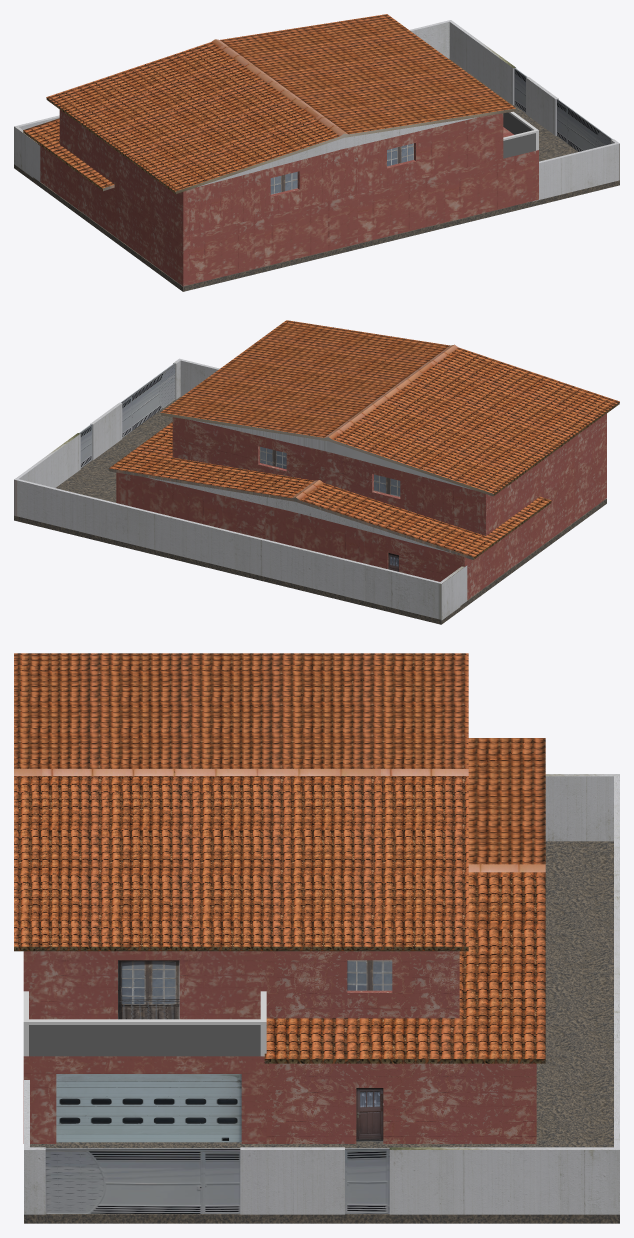
File: Home.fbx
The picture shows the model from 3 angles, top to bottom: view 1: azimuth 30°, elevation 25°; view 2: azimuth 150°, elevation 25°; view 3: azimuth 270°, elevation 25°; orthographic projection. The views are drawn at different scales.
Parts seen in each view (by area): view 1: roof, building, wall, garage_floor; view 2: roof, building, wall, garage_floor; view 3: roof, building, wall, garage_floor.
Boxes of the visible parts, x1=… form: roof: x1=23, y1=14, x2=516, y2=194; building: x1=38, y1=110, x2=538, y2=286; wall: x1=14, y1=20, x2=619, y2=201; garage_floor: x1=14, y1=58, x2=619, y2=291; roof: x1=109, y1=320, x2=619, y2=559; building: x1=116, y1=413, x2=606, y2=599; wall: x1=14, y1=358, x2=467, y2=620; garage_floor: x1=14, y1=396, x2=606, y2=624; roof: x1=14, y1=653, x2=545, y2=1063; building: x1=23, y1=951, x2=536, y2=1143; wall: x1=24, y1=774, x2=619, y2=1214; garage_floor: x1=24, y1=841, x2=619, y2=1223.
Bounding box in the file's own units: 3115 × 808 × 2066.
